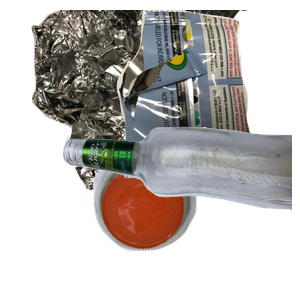glass: (60, 124, 300, 300)
metal: (29, 10, 269, 190)
plastic: (91, 152, 281, 300)
trash: (114, 10, 300, 180)
